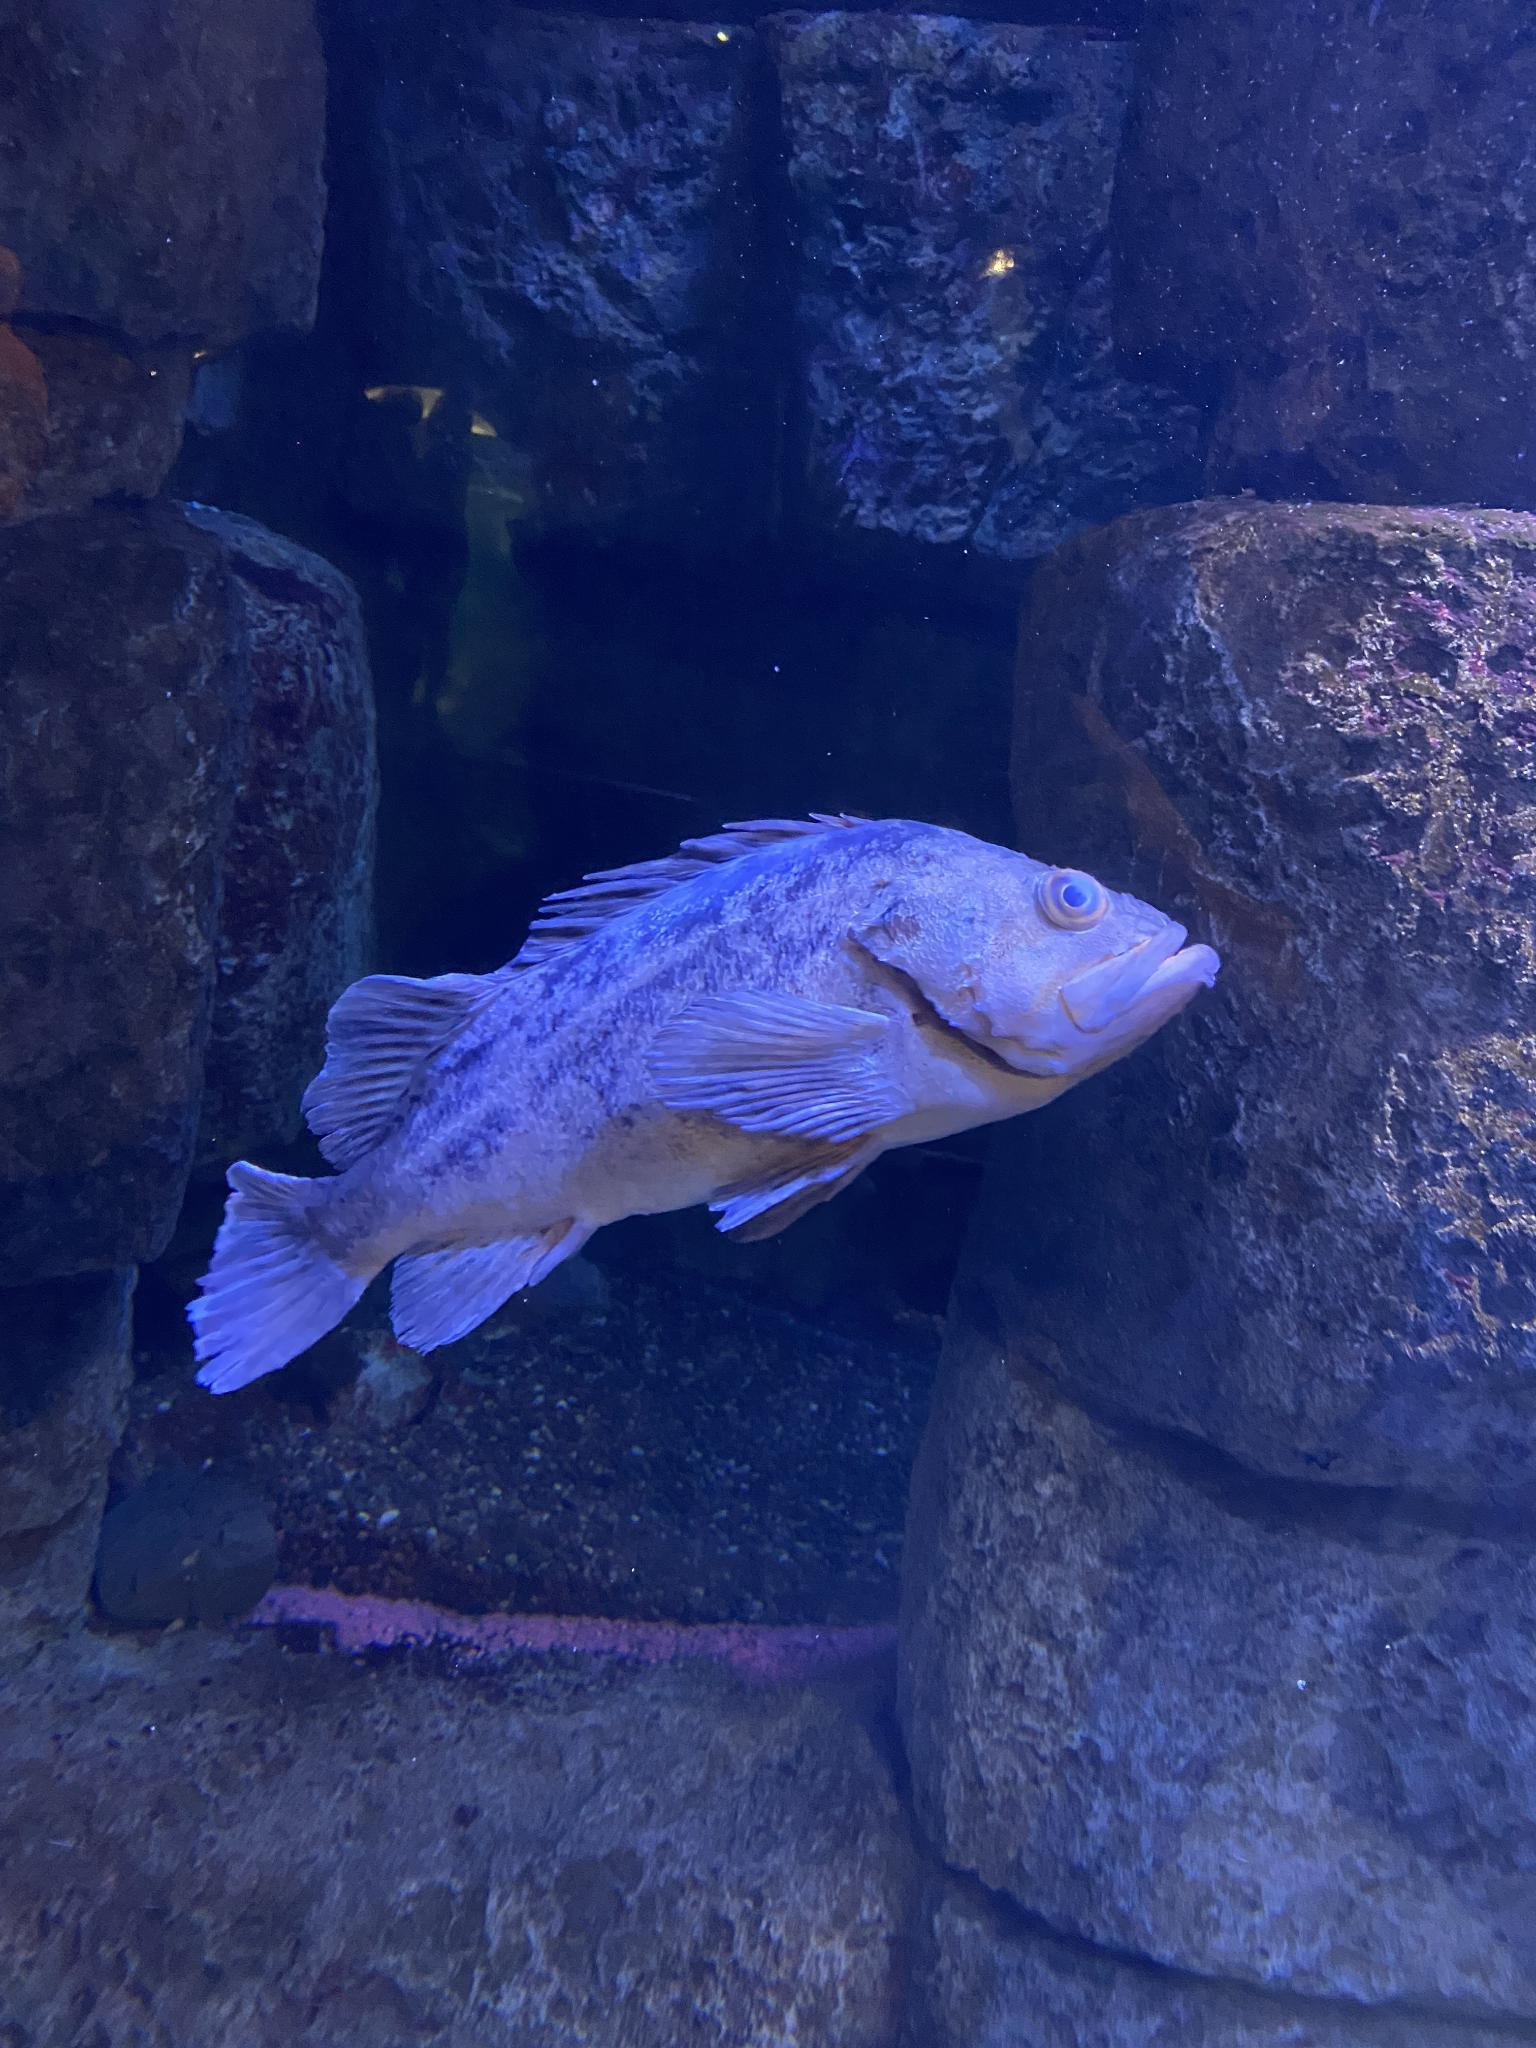fish: (161, 766, 1223, 1376)
